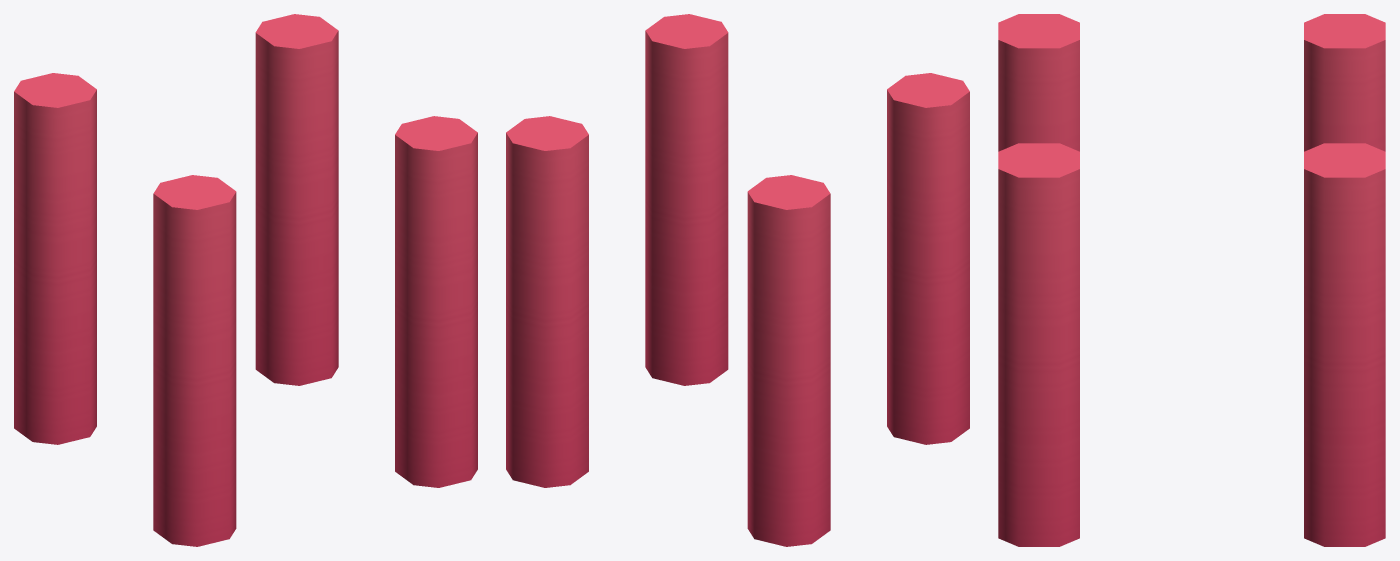
The model's file is supports.gltf.
3 views of the same model, side by side, from view 1: azimuth 30°, elevation 25°; view 2: azimuth 150°, elevation 25°; view 3: azimuth 270°, elevation 25° (orthographic). The views are drawn at different scales.
Parts seen in each view (by area): view 1: supports; view 2: supports; view 3: supports.
Part boxes in pixels (x1,y1,x2,y2): supports: [14, 14, 477, 546]; supports: [506, 14, 969, 546]; supports: [998, 14, 1385, 546].
Bounding box in the file's own units: 0.95 × 1 × 0.95.
1 material, 1 textured.
